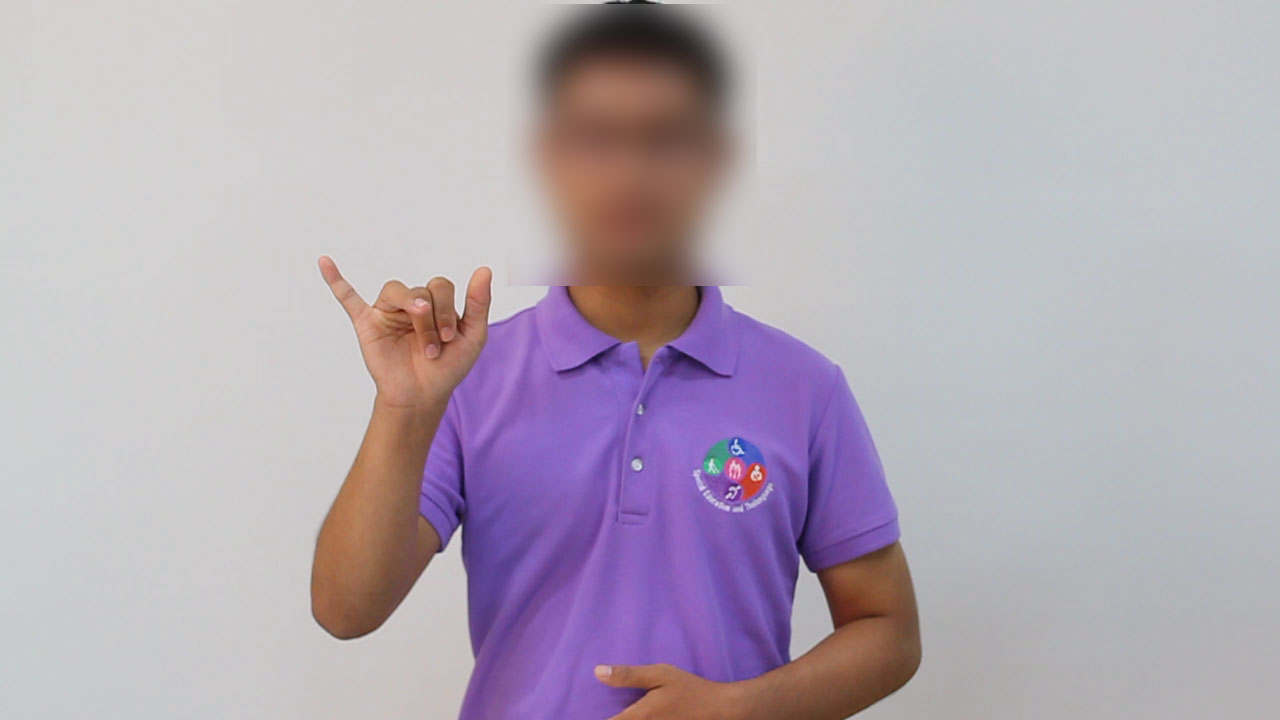yor: (303, 242, 510, 421)
